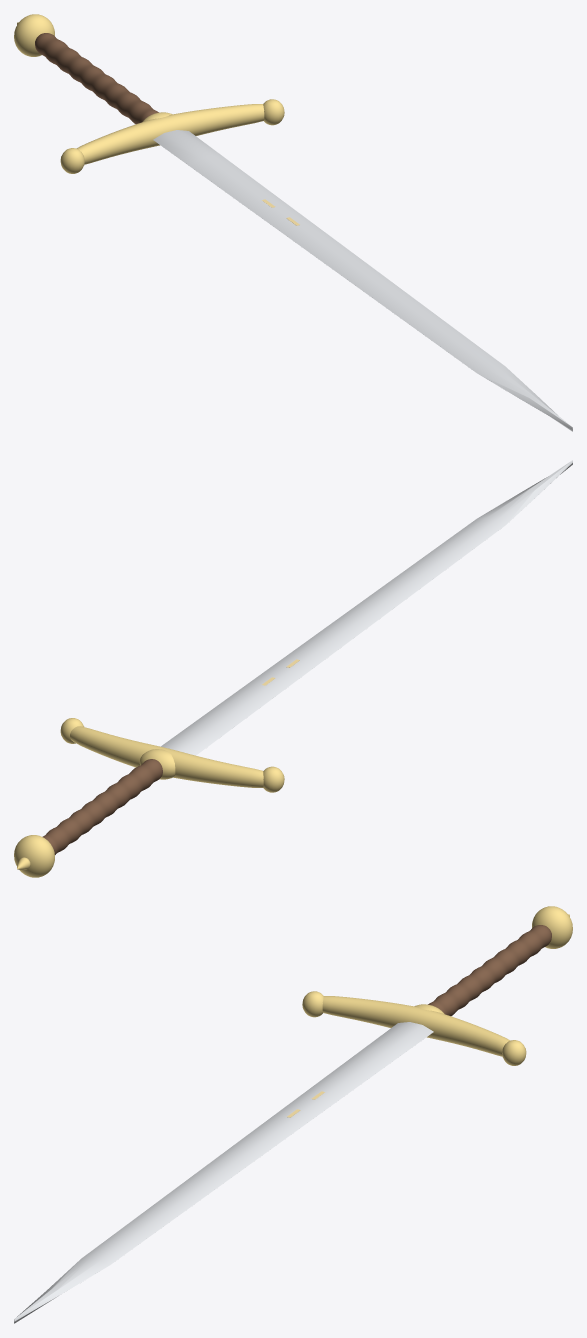
File: Mandoble.fbx
3 renders of one model, top to bottom at view 1: azimuth 30°, elevation 25°; view 2: azimuth 150°, elevation 25°; view 3: azimuth 330°, elevation 25°, orthographic.
Parts seen in each view (by area): view 1: Hoja, Guarda, Empunadura, Pomo; view 2: Hoja, Guarda, Empunadura, Pomo; view 3: Hoja, Guarda, Empunadura, Pomo.
Part boxes in pixels (x1,y1,x2,y2): Hoja: (153,130,572,431); Guarda: (60,99,284,173); Empunadura: (35,33,158,123); Pomo: (14,14,54,56); Hoja: (161,460,572,755); Guarda: (60,718,284,792); Empunadura: (42,759,162,854); Pomo: (14,835,54,877); Hoja: (14,1022,433,1323); Guarda: (302,991,526,1065); Empunadura: (428,925,551,1015); Pomo: (532,906,572,948).
Size of the model in its own units: 0.3651 by 0.0629 by 1.59.
